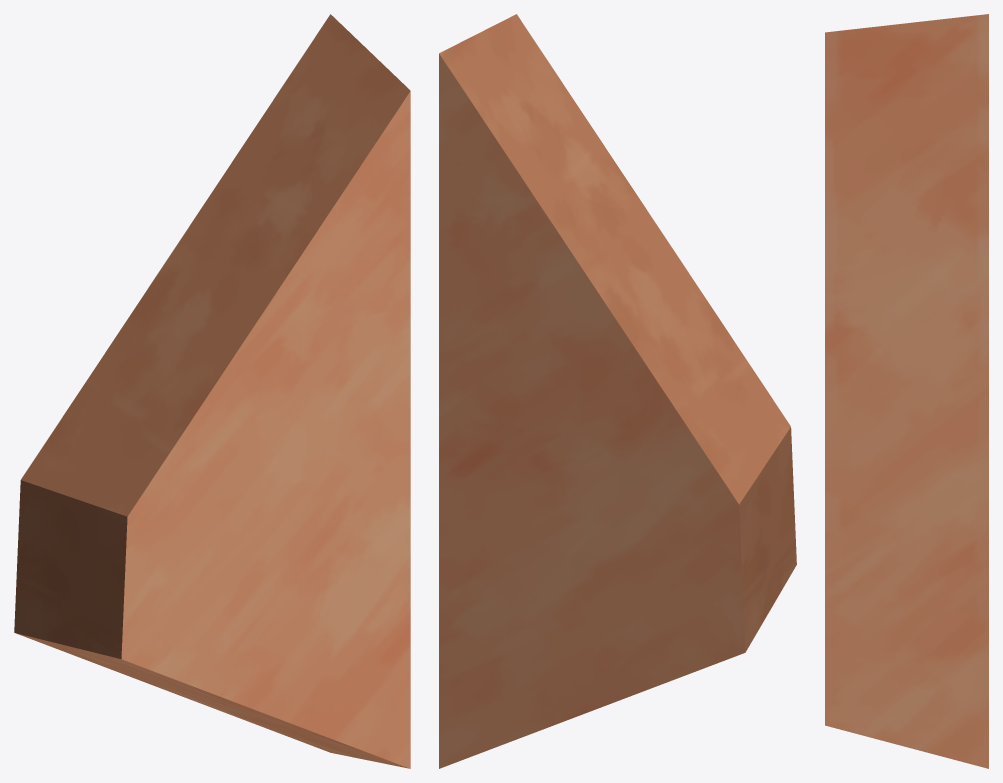
Rendered from wall_window_s04.fbx.
3 views of the same model, side by side, from view 1: azimuth 30°, elevation 25°; view 2: azimuth 150°, elevation 25°; view 3: azimuth 270°, elevation 25° (orthographic). The views are drawn at different scales.
Visible parts, largest first — view 1: wall_window_s04; view 2: wall_window_s04; view 3: wall_window_s04.
Part boxes in pixels (x1=…): wall_window_s04: x1=14, y1=14, x2=410, y2=768; wall_window_s04: x1=439, y1=14, x2=796, y2=768; wall_window_s04: x1=825, y1=14, x2=988, y2=768.
Bounding box in the file's own units: 2.28 × 5.08 × 1.
